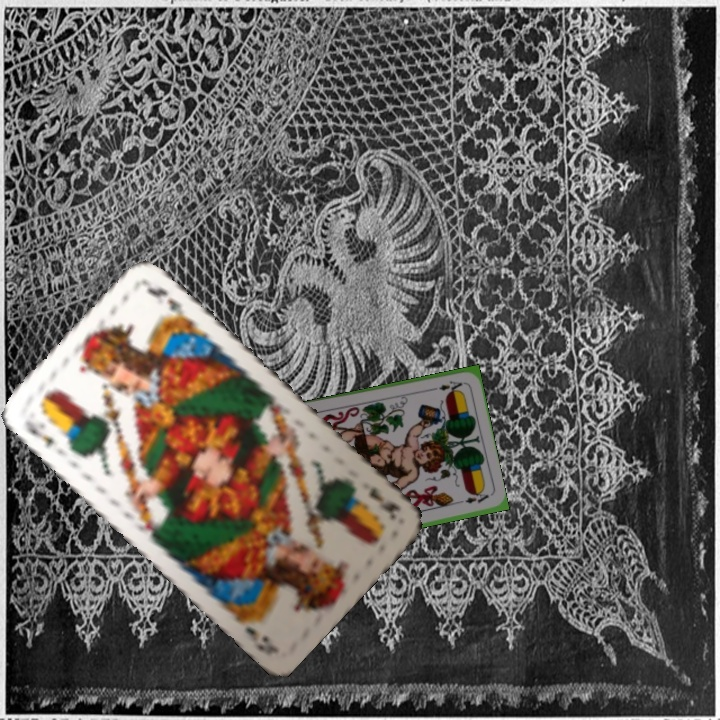EA: (435, 377, 465, 394)
EK: (364, 482, 404, 522), (20, 416, 57, 452)
